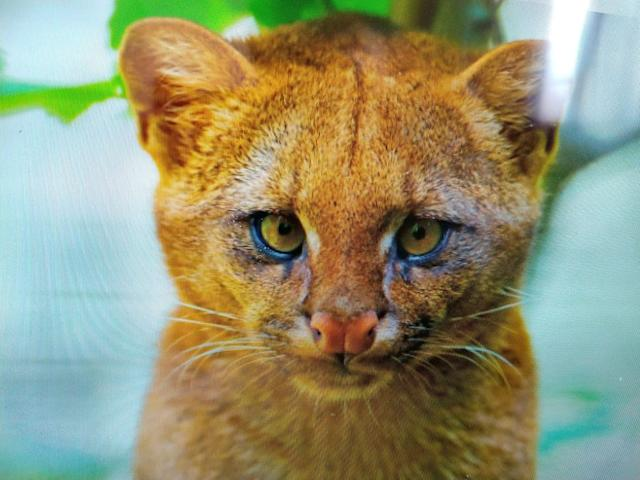Jaguarundi: (113, 12, 563, 475)
